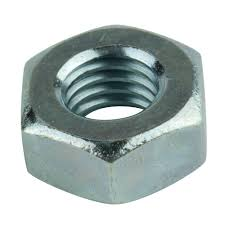Thread: (48, 41, 192, 143)
